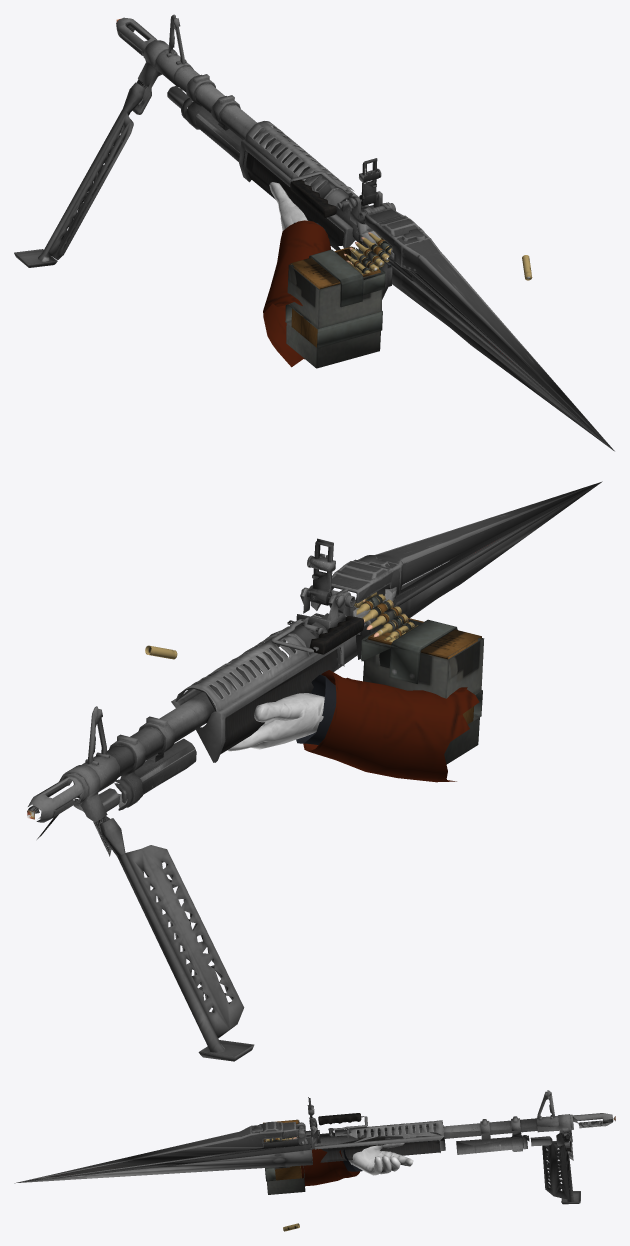
The model's file is frame_21.obj.
3 renders of one model, top to bottom at view 1: azimuth 30°, elevation 25°; view 2: azimuth 150°, elevation 25°; view 3: azimuth 270°, elevation 25°, orthographic. The views are drawn at different scales.
Parts seen in each view (by area): view 1: Mesh.005, PlayerModelMerged.001_PlayerModelMerged, Mesh.001; view 2: Mesh.005, PlayerModelMerged.001_PlayerModelMerged, Mesh.001; view 3: Mesh.005, PlayerModelMerged.001_PlayerModelMerged.
Boxes of the visible parts, <box> form: Mesh.005: <box>14,14,614,451</box>; PlayerModelMerged.001_PlayerModelMerged: <box>263,182,330,367</box>; Mesh.001: <box>344,232,392,273</box>; Mesh.005: <box>27,481,602,1061</box>; PlayerModelMerged.001_PlayerModelMerged: <box>227,670,479,782</box>; Mesh.001: <box>355,594,414,640</box>; Mesh.005: <box>14,1090,613,1204</box>; PlayerModelMerged.001_PlayerModelMerged: <box>301,1143,413,1186</box>.
Bounding box in the file's own units: 0.8109 × 0.613 × 2.27.
